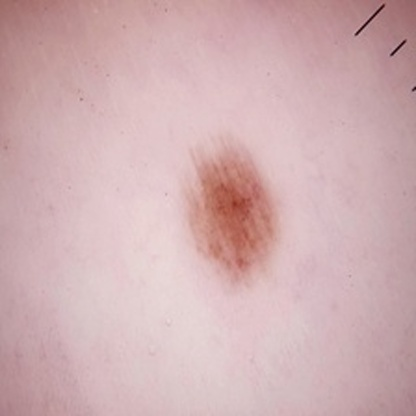benign: (179, 139, 278, 280)
